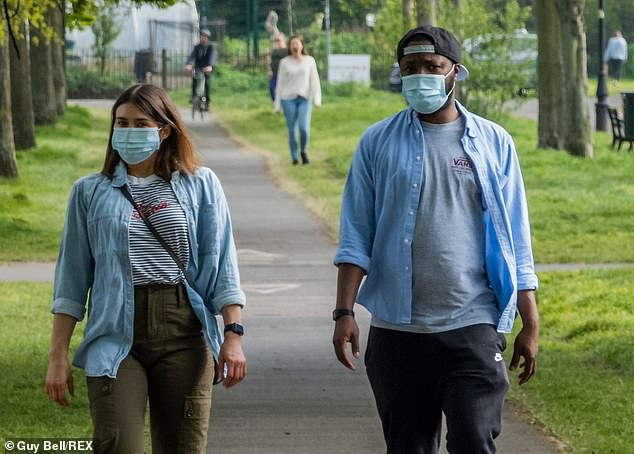with_mask: (400, 55, 454, 109), (114, 106, 160, 158)
